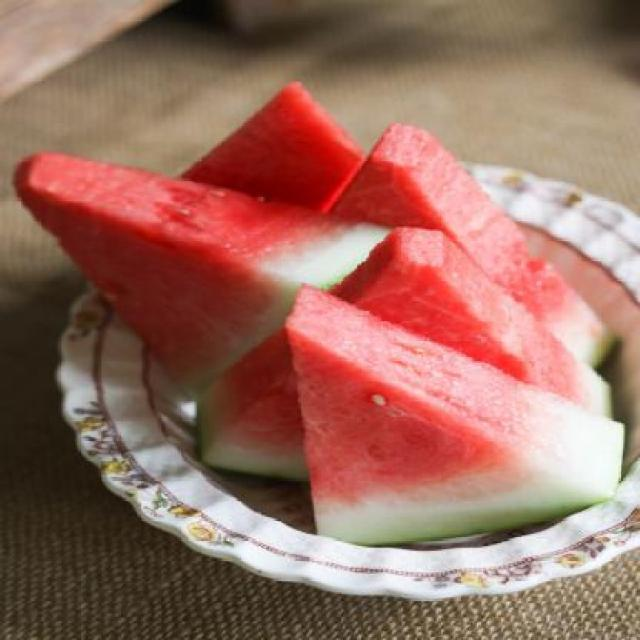Watermelon: (194, 226, 614, 482), (13, 151, 396, 404), (282, 280, 626, 546), (330, 120, 618, 369), (172, 80, 362, 214)
